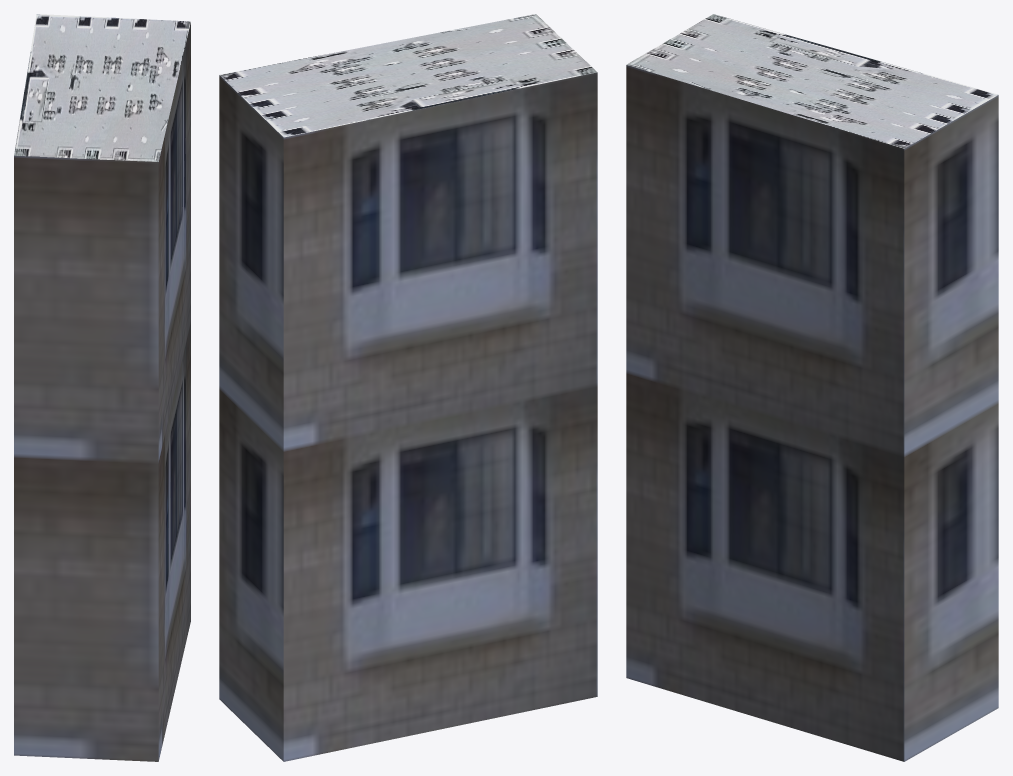
The model's file is ResTex__5079.fbx.
3 renders of one model, left to right at view 1: azimuth 30°, elevation 25°; view 2: azimuth 150°, elevation 25°; view 3: azimuth 270°, elevation 25°, orthographic. The views are drawn at different scales.
Visible parts, largest first — view 1: CityEngineMaterial_3_m, CityEngineMaterial_8_m; view 2: CityEngineMaterial_3_m, CityEngineMaterial_8_m; view 3: CityEngineMaterial_3_m, CityEngineMaterial_8_m.
Boxes of the visible parts, bbox=[...] form: CityEngineMaterial_3_m: bbox=[14, 22, 190, 761]; CityEngineMaterial_8_m: bbox=[14, 14, 190, 161]; CityEngineMaterial_3_m: bbox=[219, 72, 597, 761]; CityEngineMaterial_8_m: bbox=[220, 14, 597, 137]; CityEngineMaterial_3_m: bbox=[626, 65, 998, 761]; CityEngineMaterial_8_m: bbox=[626, 14, 998, 148].
Size of the model in its own units: 2.83 by 6 by 3.3.
Materials: 2 (2 with a texture image).
